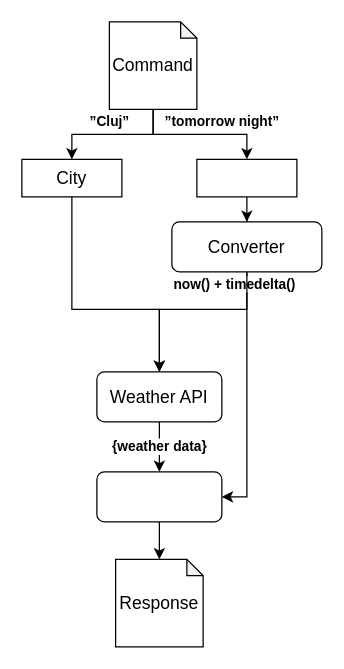
This 344x669 diagram has some shape labels left out. Here are the shapes that lost their labels. From the top down, the centre of each, then its label:
point (246, 177): NL Time
point (159, 496): Build Response
